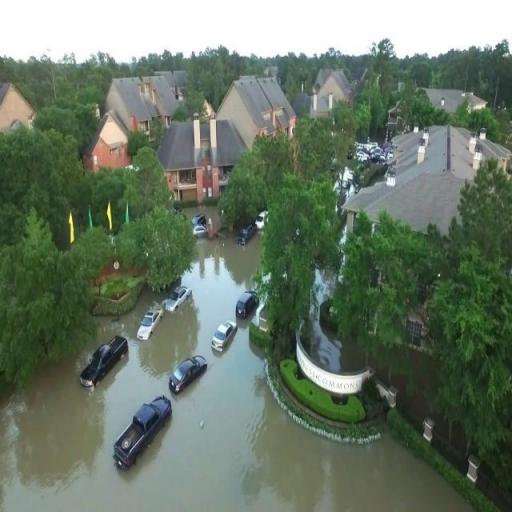flood: (0, 201, 476, 512)
house: (162, 118, 244, 194), (220, 76, 296, 130), (111, 76, 187, 124), (83, 112, 135, 167), (0, 80, 38, 134), (315, 69, 351, 107)
